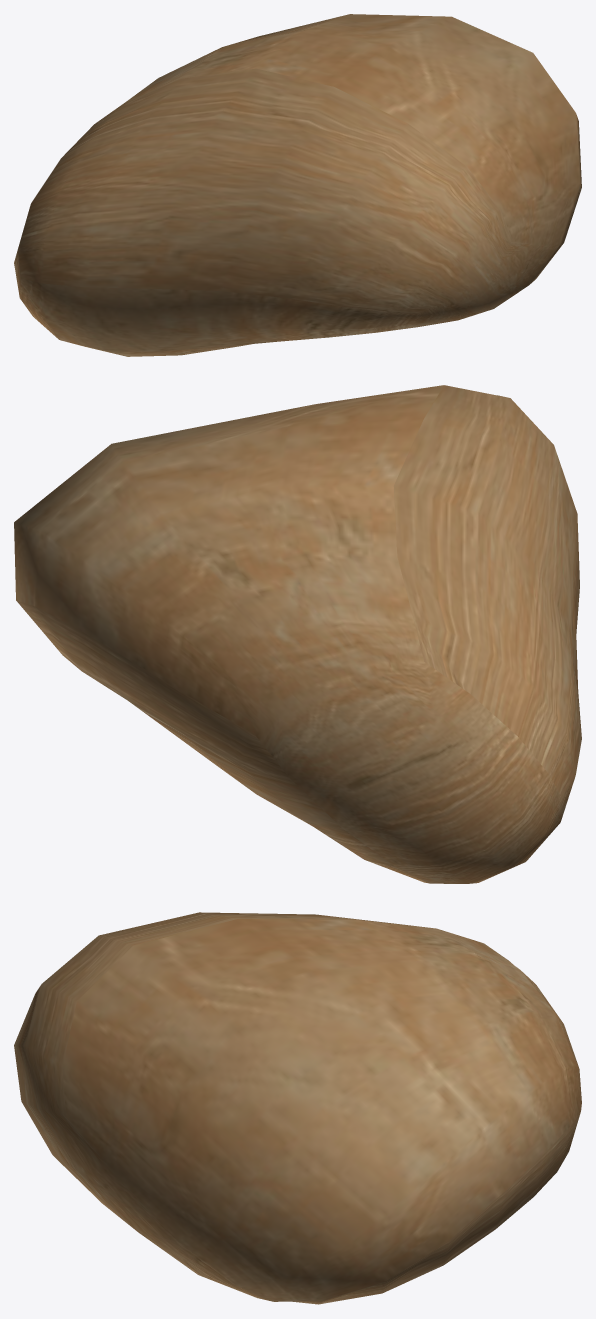
The model's file is rock2.obj.
The picture shows the model from 3 angles, top to bottom: view 1: azimuth 30°, elevation 25°; view 2: azimuth 150°, elevation 25°; view 3: azimuth 270°, elevation 25°; orthographic projection. The views are drawn at different scales.
Visible parts, largest first — view 1: rock2; view 2: rock2; view 3: rock2.
Part boxes in pixels (x1,y1,x2,y2): rock2: (14, 14, 581, 356); rock2: (14, 385, 581, 883); rock2: (14, 912, 581, 1304).
Size of the model in its own units: 6.16 by 3.47 by 5.23.
Materials: 1 (1 with a texture image).
